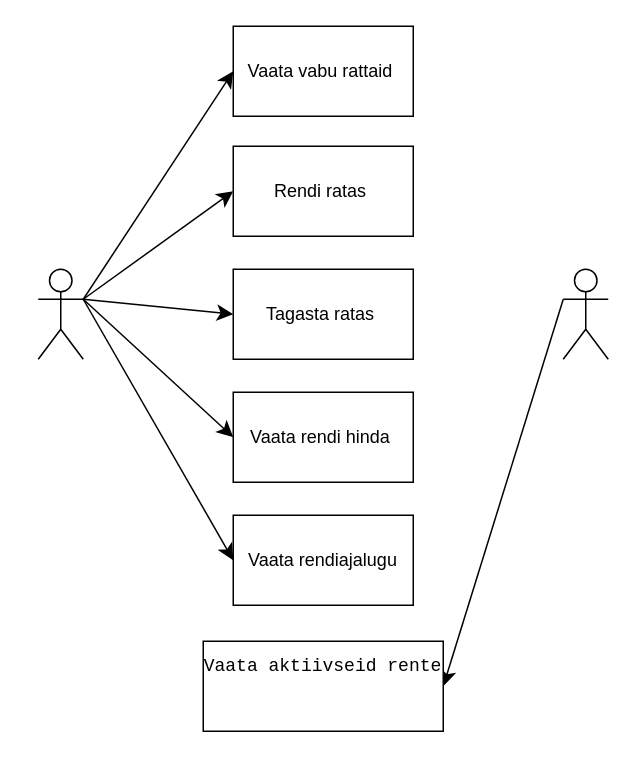
The diagram is 638 pixels wide and 761 high, and some of its shapes have lost their labels. Here are the shapes that lost their labels. From the top down, the centre of each, then its label:
the point at 60,313: Kasutaja
the point at 585,313: Haldur
